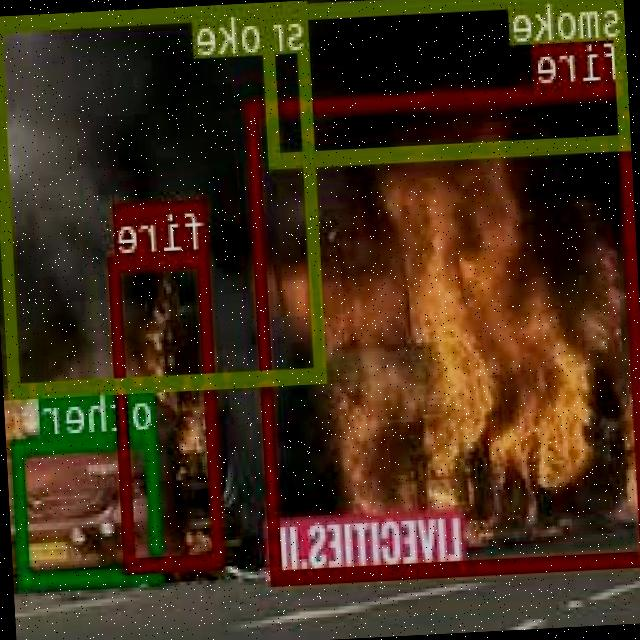fire: (250, 78, 640, 580), (112, 249, 226, 572)
smoke: (0, 0, 327, 393), (262, 0, 631, 165)
